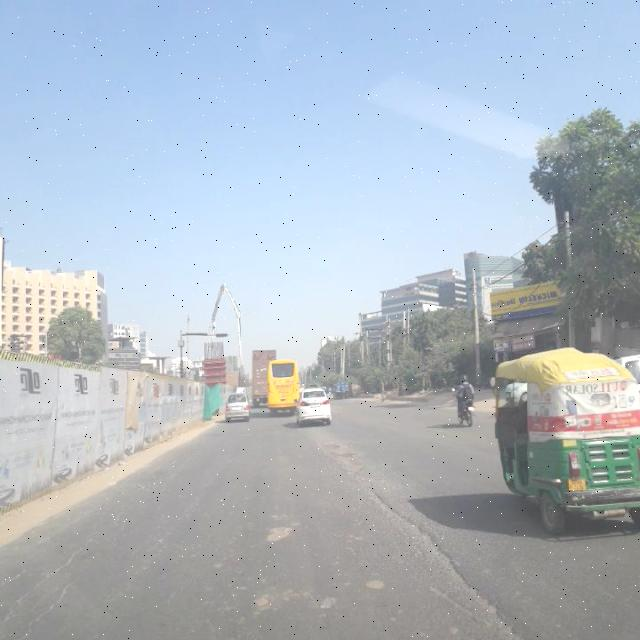D00: (367, 482, 505, 628)
D20: (5, 484, 137, 638)
D40: (318, 434, 364, 477)
